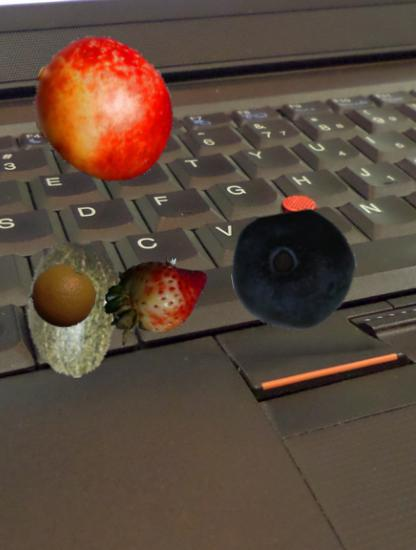Blueberry: (231, 208, 358, 335)
Melon: (12, 240, 149, 377)
Nectarine: (30, 34, 180, 184)
Orange: (37, 57, 141, 161), (30, 263, 96, 329)
Strawberry: (104, 250, 204, 350)
